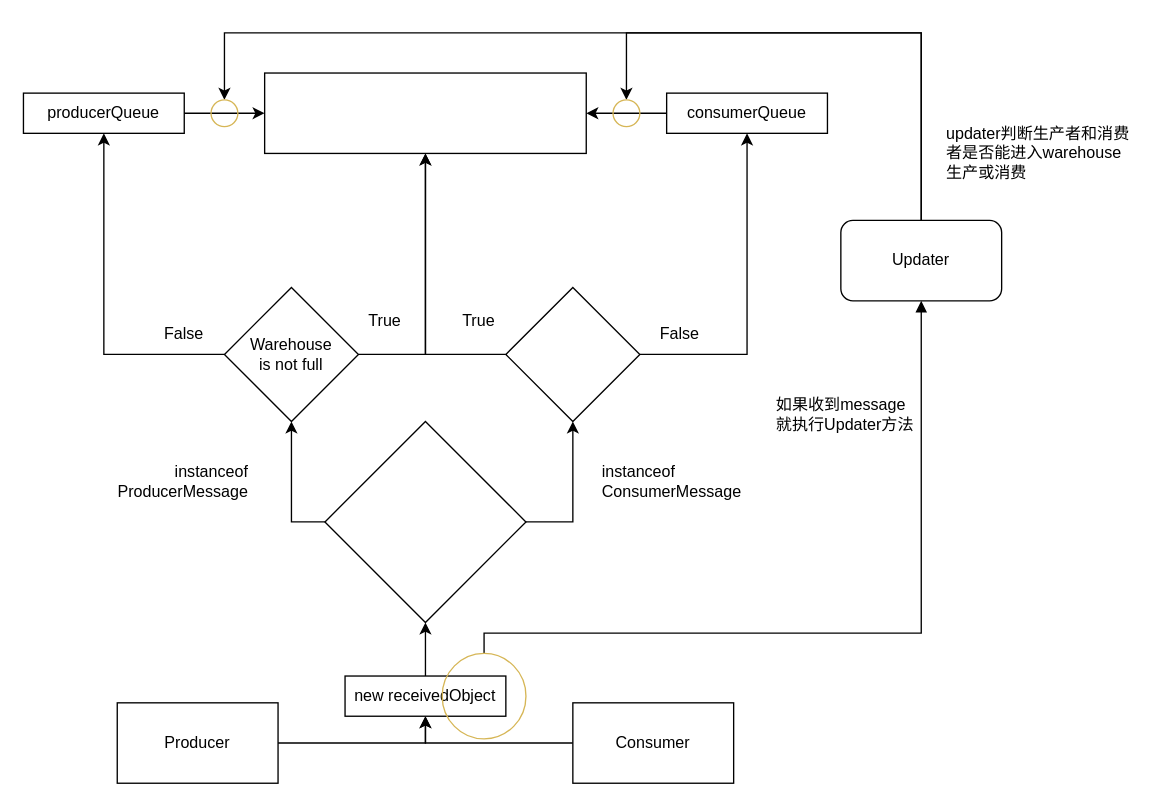
Some shapes in this 1155 by 807 pixel diagram are drawn without their labels. Each missing label, with the centre of its shape:
if instanceof ProducerMessage or ConsumerMessage: point 425,521
Warehouse: point 424,112
Warehouse have product: point 572,353
